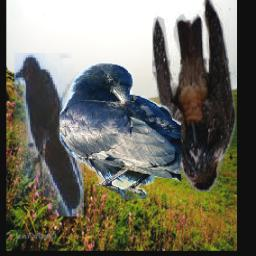Crow: (59, 63, 180, 200), (14, 54, 83, 217)
Swallow: (151, 0, 235, 191)
